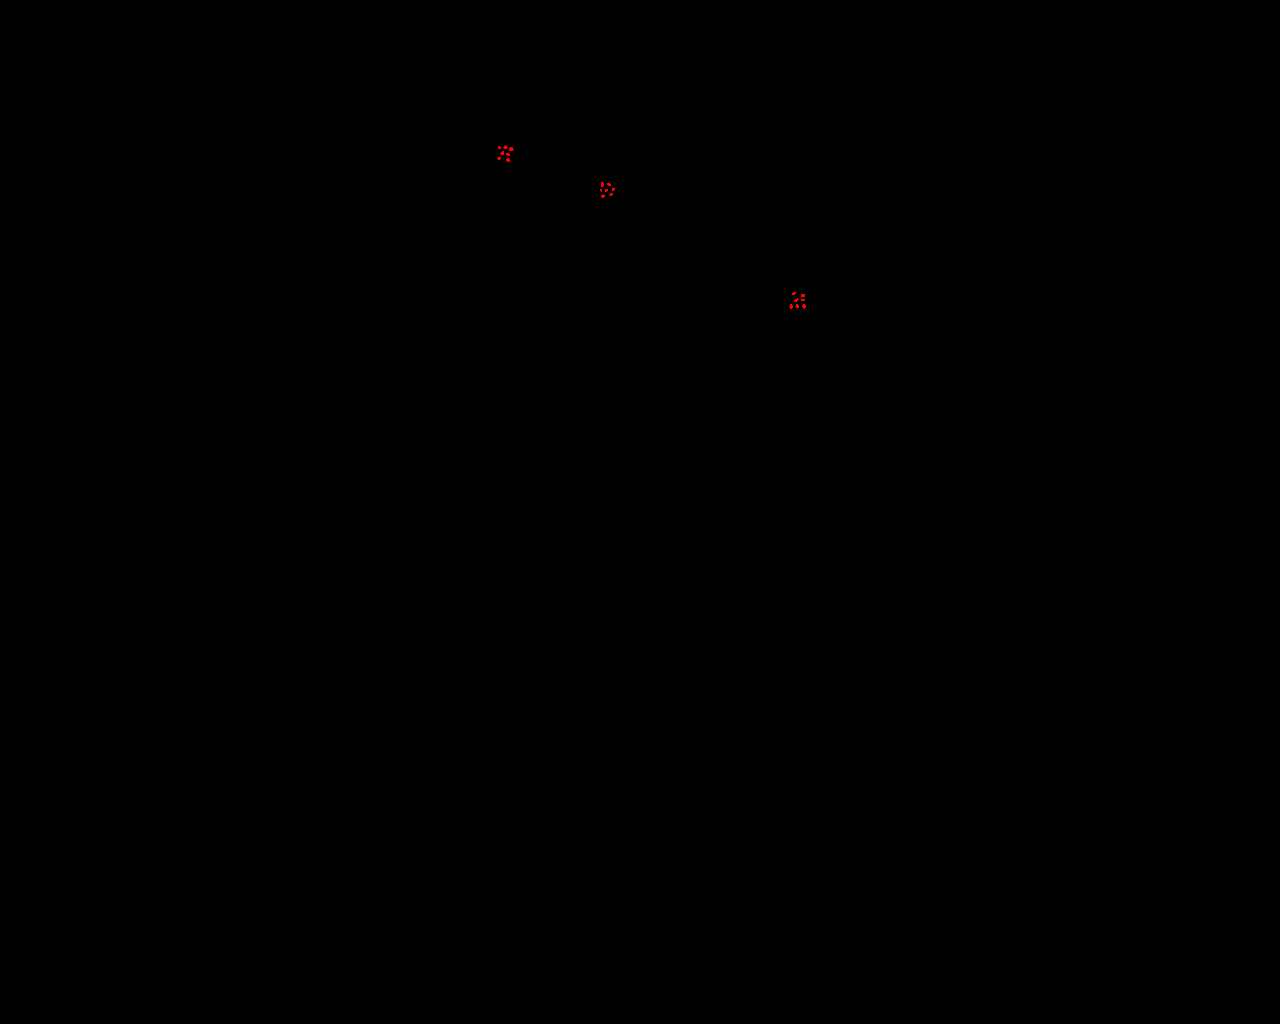Target: (503, 145, 508, 149), (509, 147, 514, 152), (794, 298, 799, 302), (789, 304, 793, 309), (506, 158, 510, 162), (795, 304, 799, 308), (601, 182, 604, 187), (802, 304, 806, 309), (506, 153, 510, 156), (607, 183, 611, 186), (609, 193, 613, 196), (601, 194, 605, 197), (792, 292, 796, 295), (501, 152, 504, 155), (497, 157, 501, 160), (612, 188, 615, 191), (605, 189, 608, 192), (801, 294, 805, 297), (498, 146, 501, 149), (600, 189, 602, 192), (801, 299, 805, 301)
